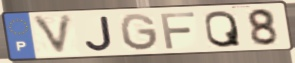8: (247, 7, 280, 47)
F: (158, 11, 198, 50)
G: (118, 12, 161, 52)
J: (84, 15, 115, 53)
Q: (203, 9, 243, 49)
V: (30, 13, 76, 58)
